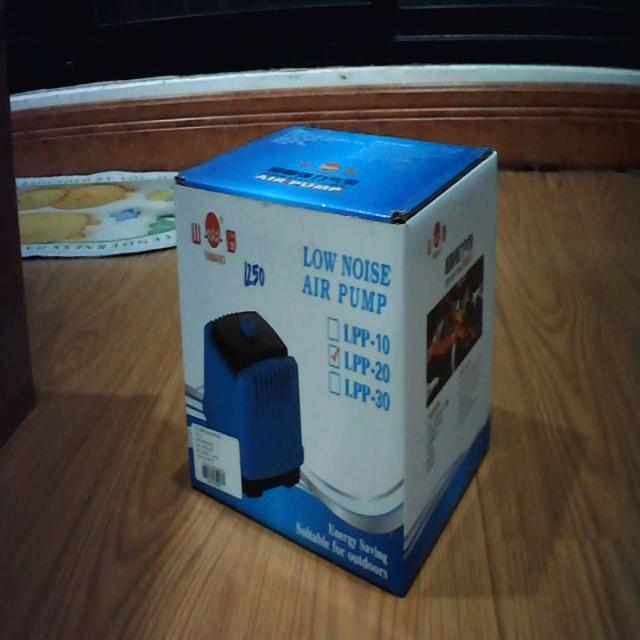YAMANO_LPP_20: (169, 113, 505, 599)
